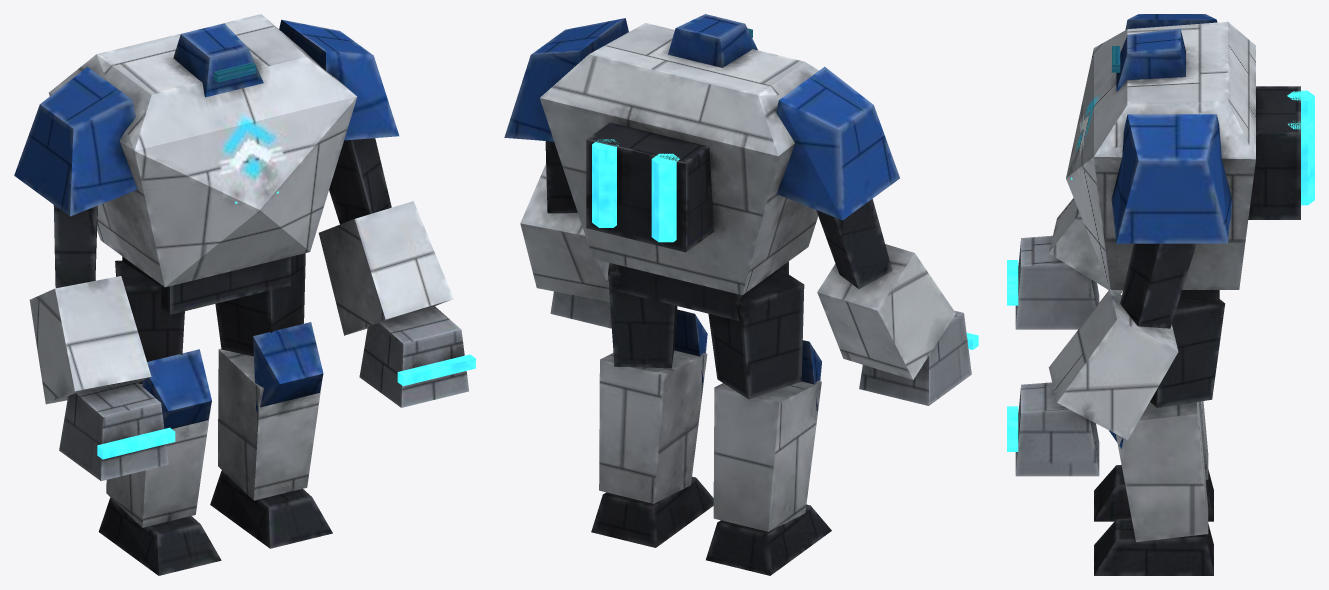
Rendered from s_juggernaut_w.glb.
3 views of the same model, side by side, from view 1: azimuth 30°, elevation 25°; view 2: azimuth 150°, elevation 25°; view 3: azimuth 270°, elevation 25° (orthographic). The views are drawn at different scales.
Visible parts, largest first — view 1: s_juggernaut_w; view 2: s_juggernaut_w; view 3: s_juggernaut_w.
Boxes of the visible parts, x1,y1,x2,y2 form: s_juggernaut_w: (14, 14, 475, 575); s_juggernaut_w: (504, 14, 978, 575); s_juggernaut_w: (1007, 14, 1314, 575).
Size of the model in its own units: 1.56 by 1.95 by 1.1.
Materials: 1 (1 with a texture image).
